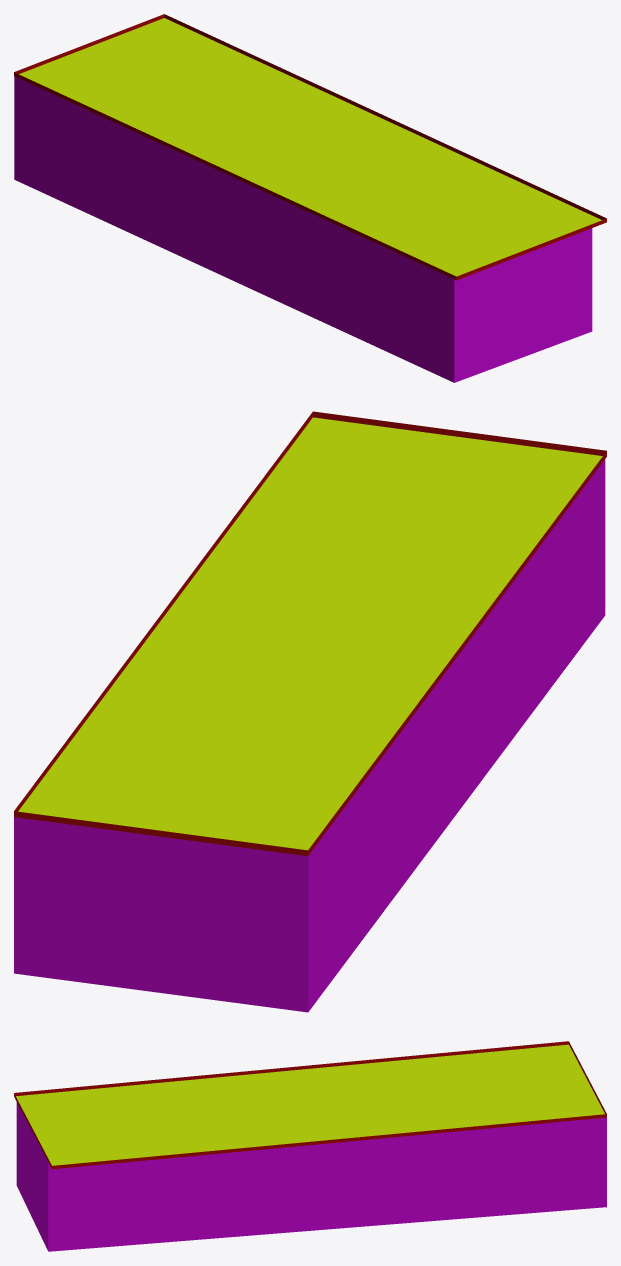
The model's file is scl_41.glb.
3 views of the same model, one above another, from view 1: azimuth 30°, elevation 25°; view 2: azimuth 150°, elevation 25°; view 3: azimuth 270°, elevation 25° (orthographic). The views are drawn at different scales.
Parts seen in each view (by area): view 1: scl_41; view 2: scl_41; view 3: scl_41.
Part boxes in pixels (<box>): scl_41: <box>14,14,606,382</box>; scl_41: <box>14,411,606,1012</box>; scl_41: <box>14,1041,606,1251</box>.
Size of the model in its own units: 27.56 by 9.59 by 55.38.
